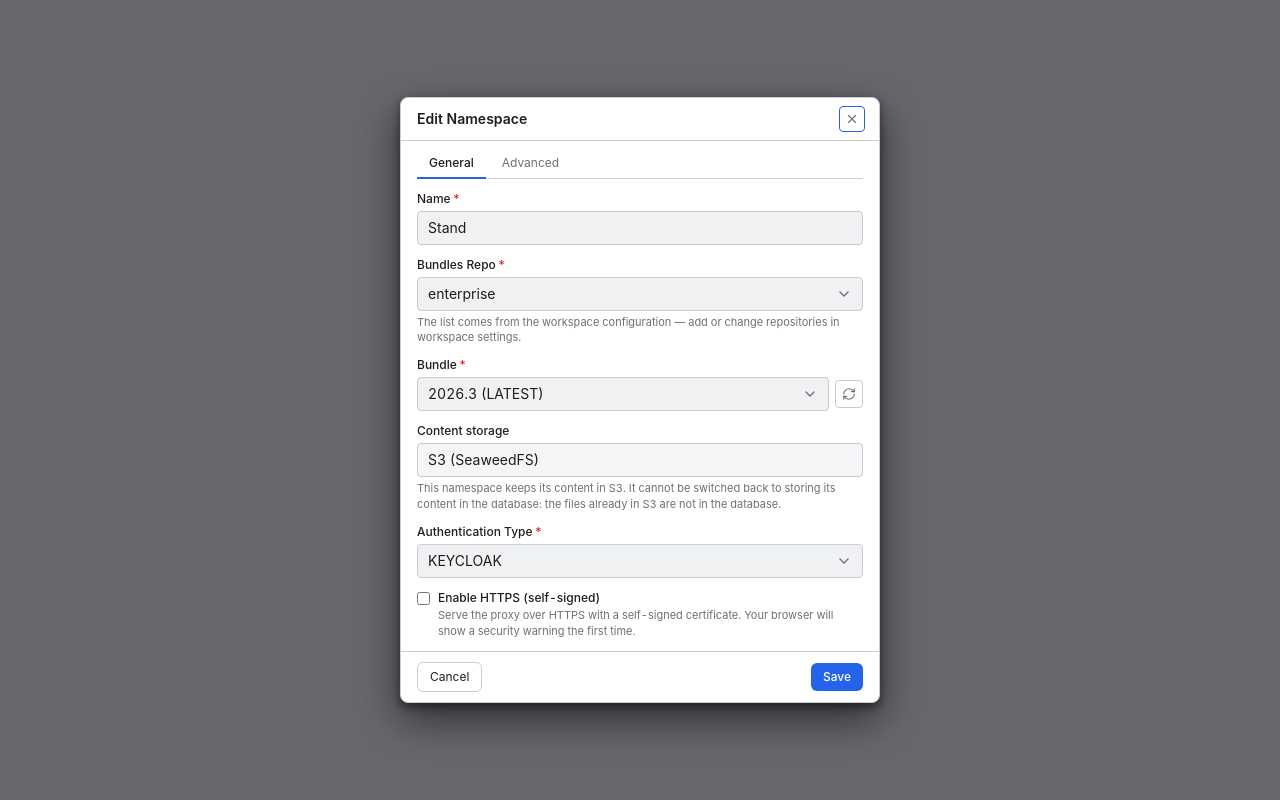
Test: NamespaceEditDialog content storage › warns that moving an S3 namespace to a bundle without the provider will be refused
expect the field showing "Stand" is shown: met, box [417,210,863,244]
expect the text "Content storage" is shown: met, box [417,423,509,439]
Click the button "2026.3 (LATEST)". click: click(486, 394)
box: [417,377,829,411]
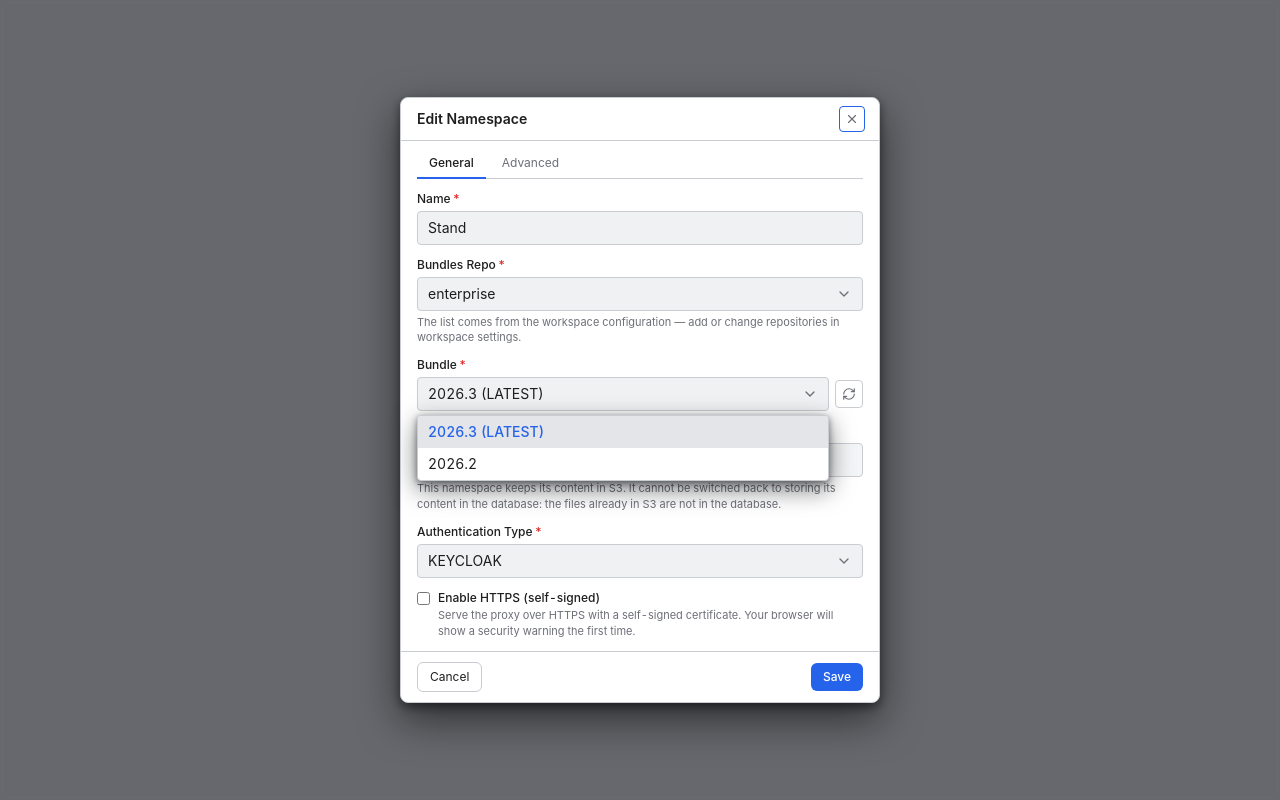
Click the option "2026.2". click: click(453, 464)
box: [418,448,828,480]
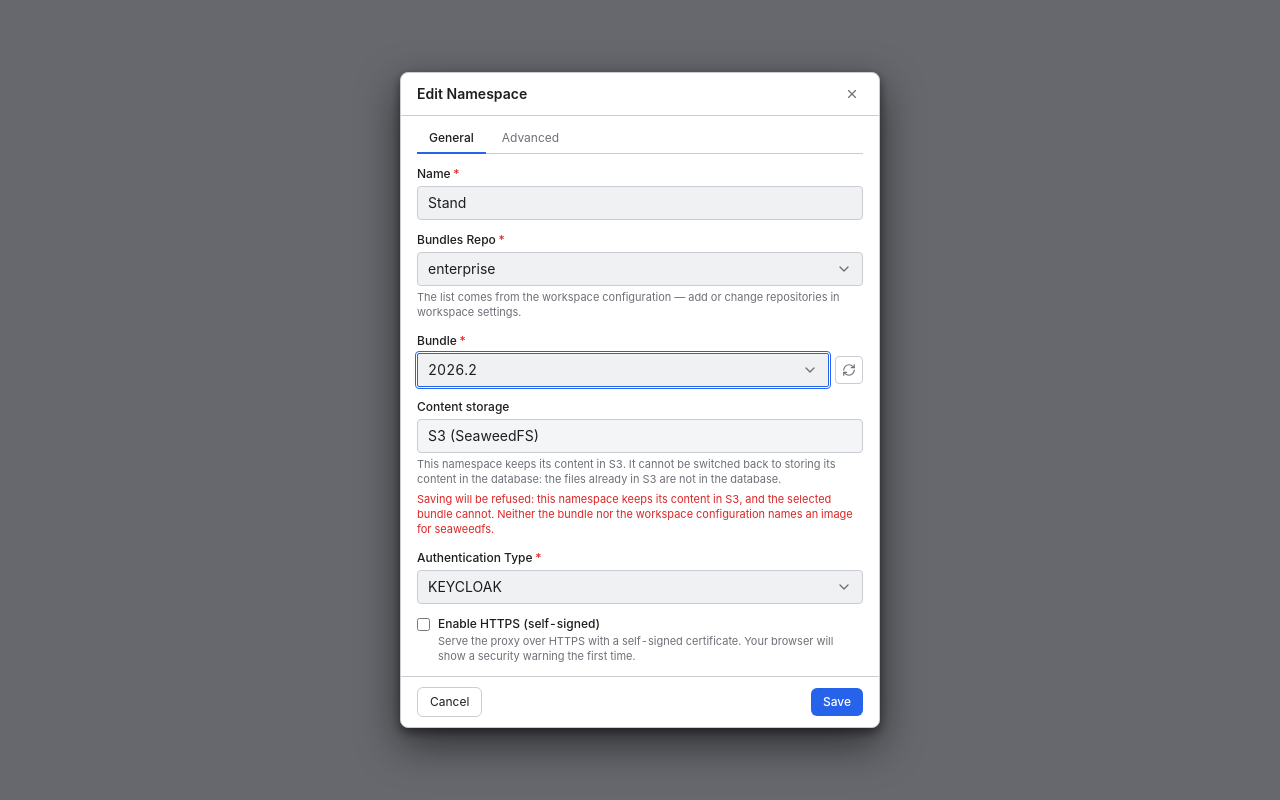
expect the text "Content storage" is shown: met, box [417,399,509,415]
expect the text "Saving will be refused" shows "names an image for seaweedfs": met, box [417,492,853,536]
